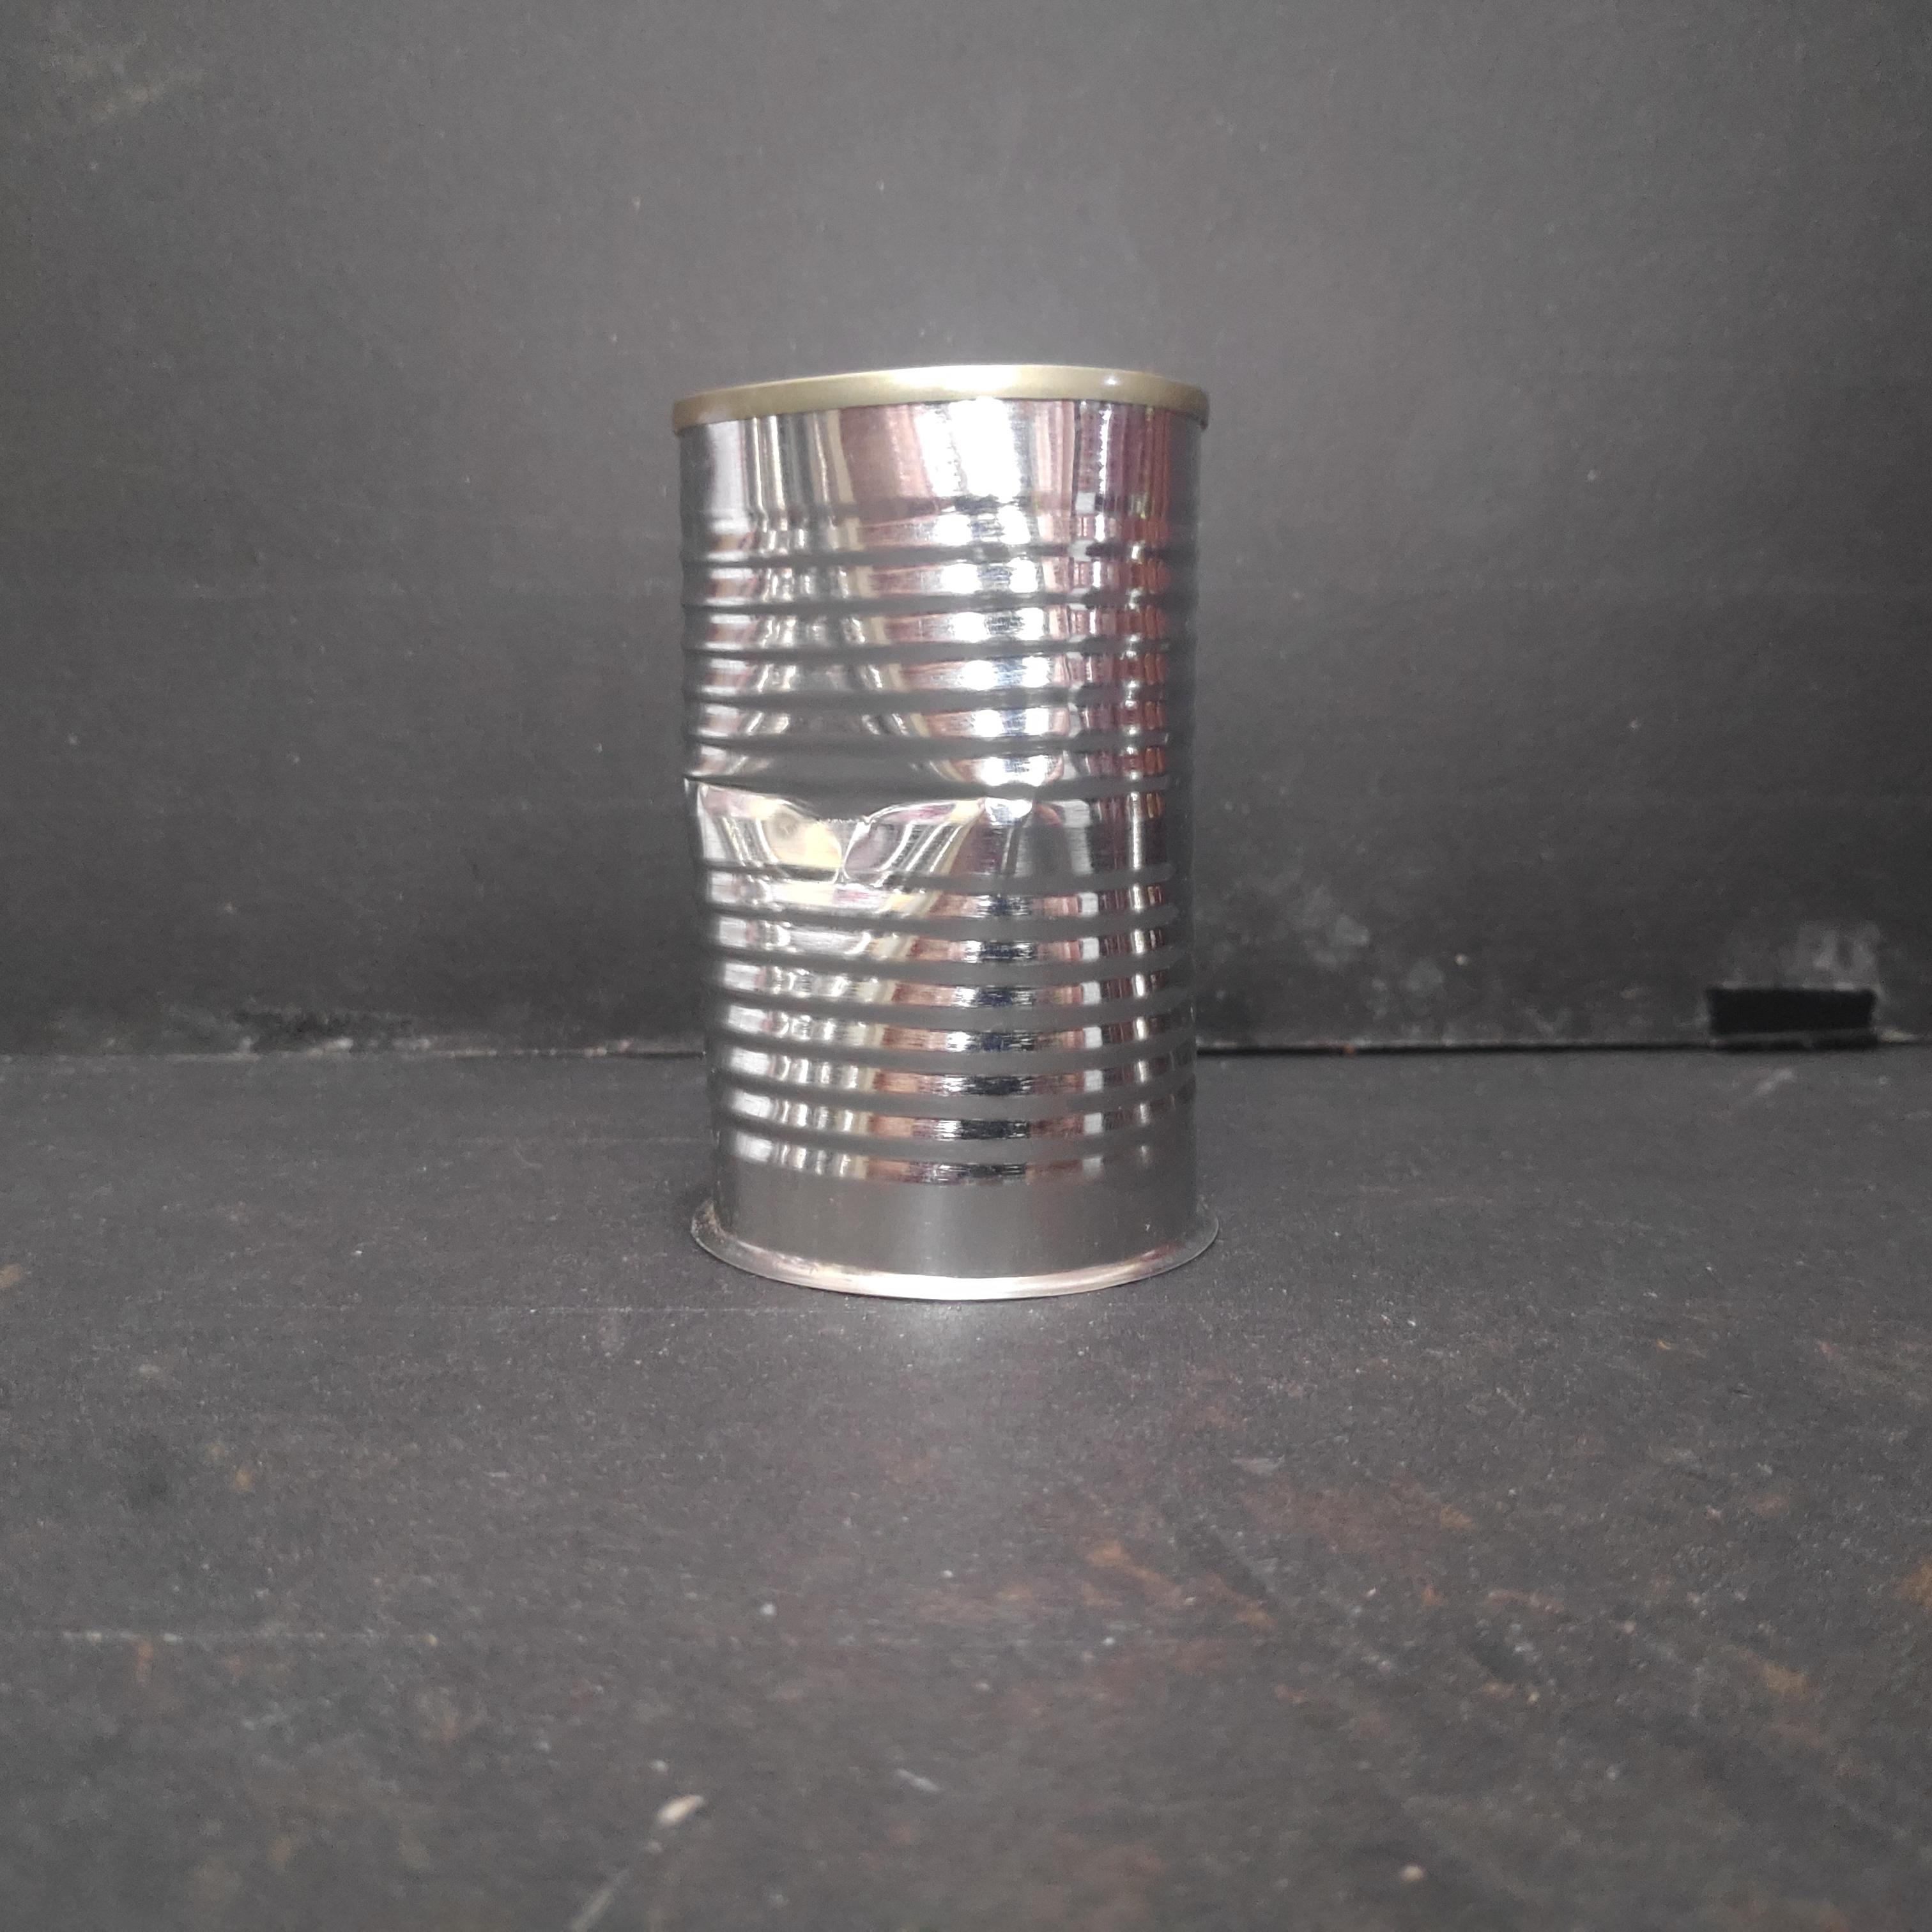Minor Defect: (662, 359, 1215, 1311)
